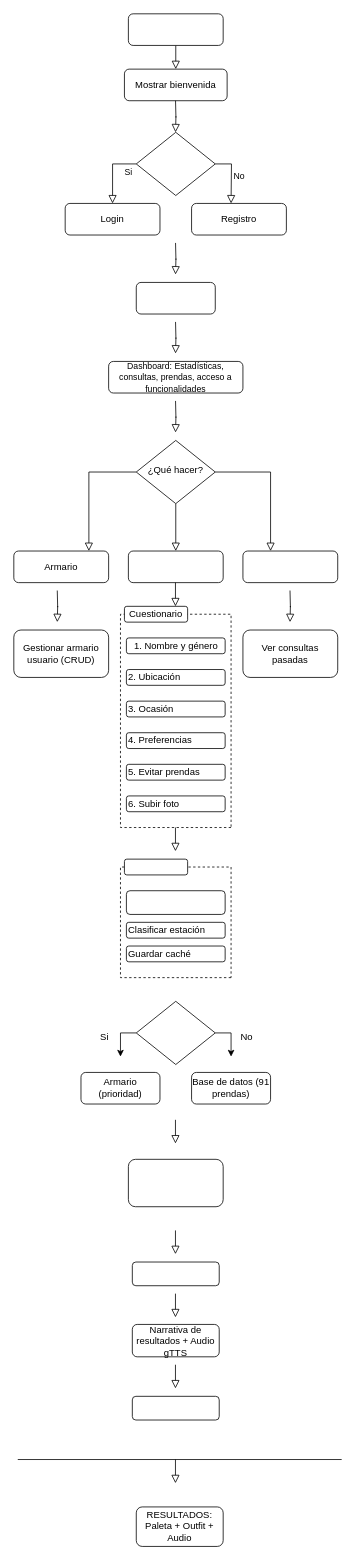
This 356x1560 diagram has some shape labels left out. The shapes that lost their labels are listed below. From the top down, each one's box as (x1, y1, x2, y2) in pixels, then its label:
(128, 13, 223, 45): INICIO: Usuario accede
(135, 132, 215, 196): ¿Tiene cuenta?
(135, 282, 215, 314): Cerrar sesión
(128, 550, 223, 583): Nueva consulta
(242, 550, 338, 583): Historial
(124, 858, 188, 875): Análisis
(126, 890, 225, 914): Colorimetría (OpenCV + Kmeans)
(135, 1001, 215, 1065): ¿Usuario tiene prendas?
(128, 1159, 223, 1207): Aplicar filtros: Género + clima + scoring + colores
(132, 1261, 219, 1286): Outfit completo
(132, 1396, 219, 1420): Guardar historial
